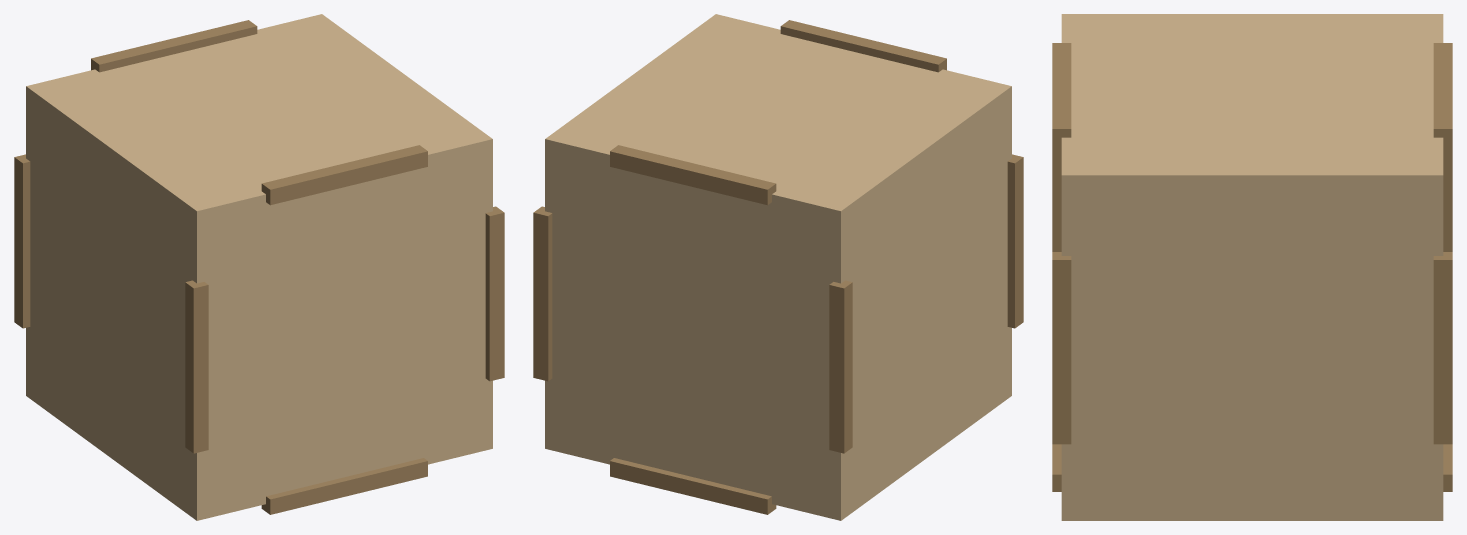
File: Crate_1.glb
The picture shows the model from 3 angles, left to right: view 1: azimuth 30°, elevation 25°; view 2: azimuth 150°, elevation 25°; view 3: azimuth 270°, elevation 25°; orthographic projection. The views are drawn at different scales.
Visible parts, largest first — view 1: Crate_1; view 2: Crate_1; view 3: Crate_1.
Part boxes in pixels (x1,y1,x2,y2): Crate_1: (14,14,504,520); Crate_1: (533,14,1023,520); Crate_1: (1052,14,1452,520).
Size of the model in its own units: 0.315 by 0.315 by 0.315.
